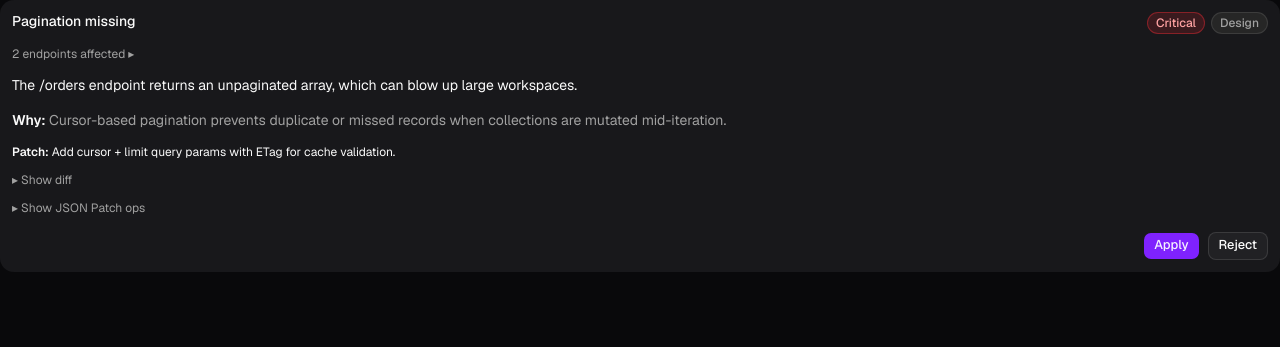
Test: FindingCard — toggles › endpoints toggle expands the affected-endpoint list
Click the button "2 endpoints affected ▸".
click(73, 54)  # box top-left (12, 46), bottom-right (134, 62)
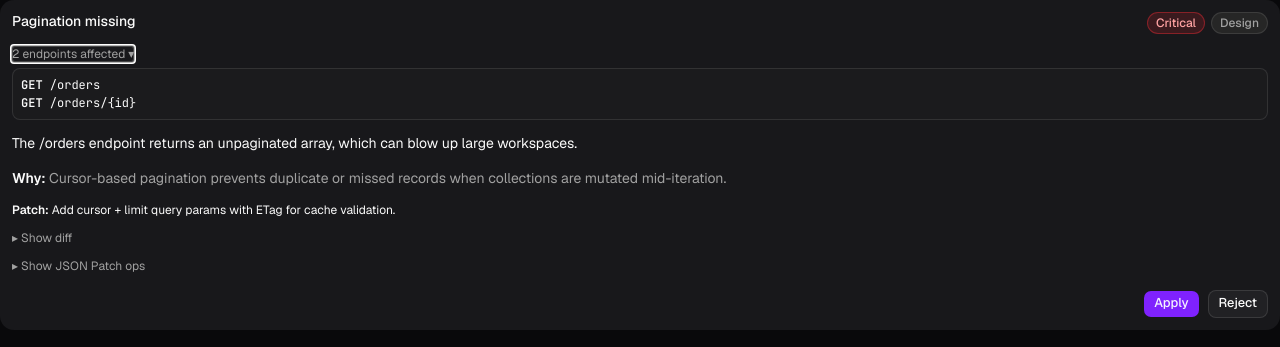
Now the button "2 endpoints affected ▾" is expanded, box top-left (12, 46), bottom-right (134, 62)
Now the list item "/orders" is shown, box top-left (50, 77), bottom-right (100, 93)
Now the list item "/orders/{id}" is shown, box top-left (50, 95), bottom-right (136, 111)
